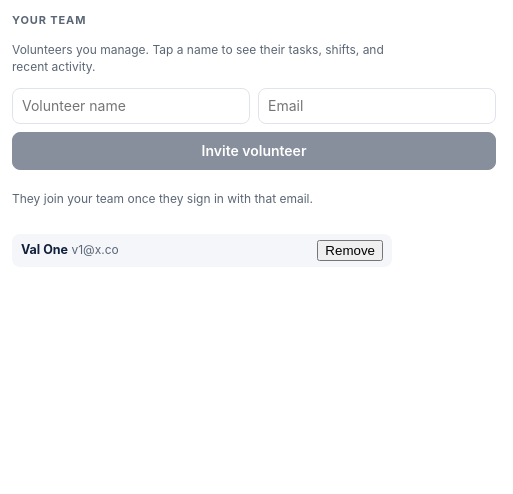
Test: TeamPanel › renders the roster and expands a volunteer's work on click
The width and height of the screenshot is (513, 494).
Click the text "Val One" at x=45, y=250, box [21,242,68,257]
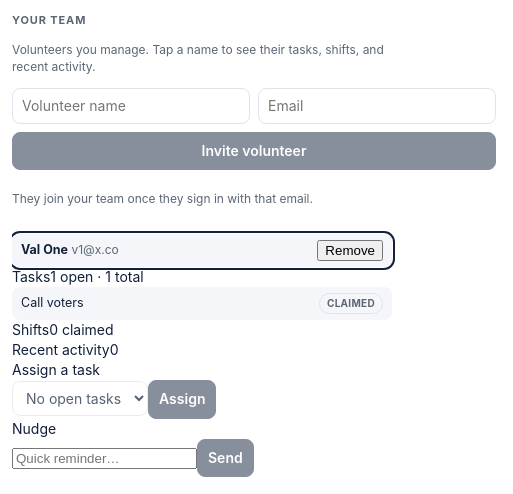
Result: the text "Call voters" is shown at [21,294,84,312]
